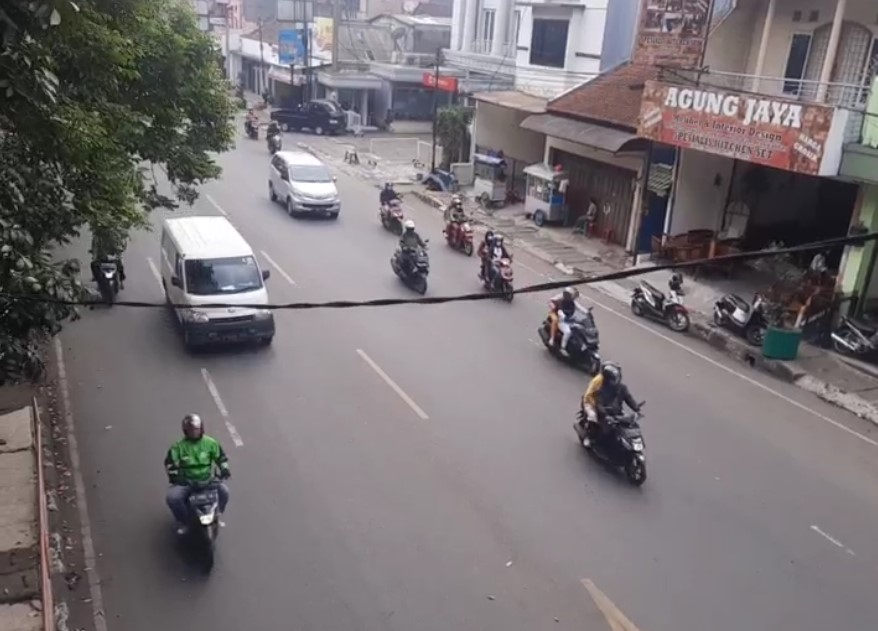mobil: (156, 214, 280, 345), (268, 149, 342, 216)
motor: (163, 413, 238, 576), (580, 370, 652, 485), (537, 284, 605, 375), (394, 221, 434, 293), (478, 231, 514, 298), (441, 194, 479, 254), (376, 180, 405, 234)
